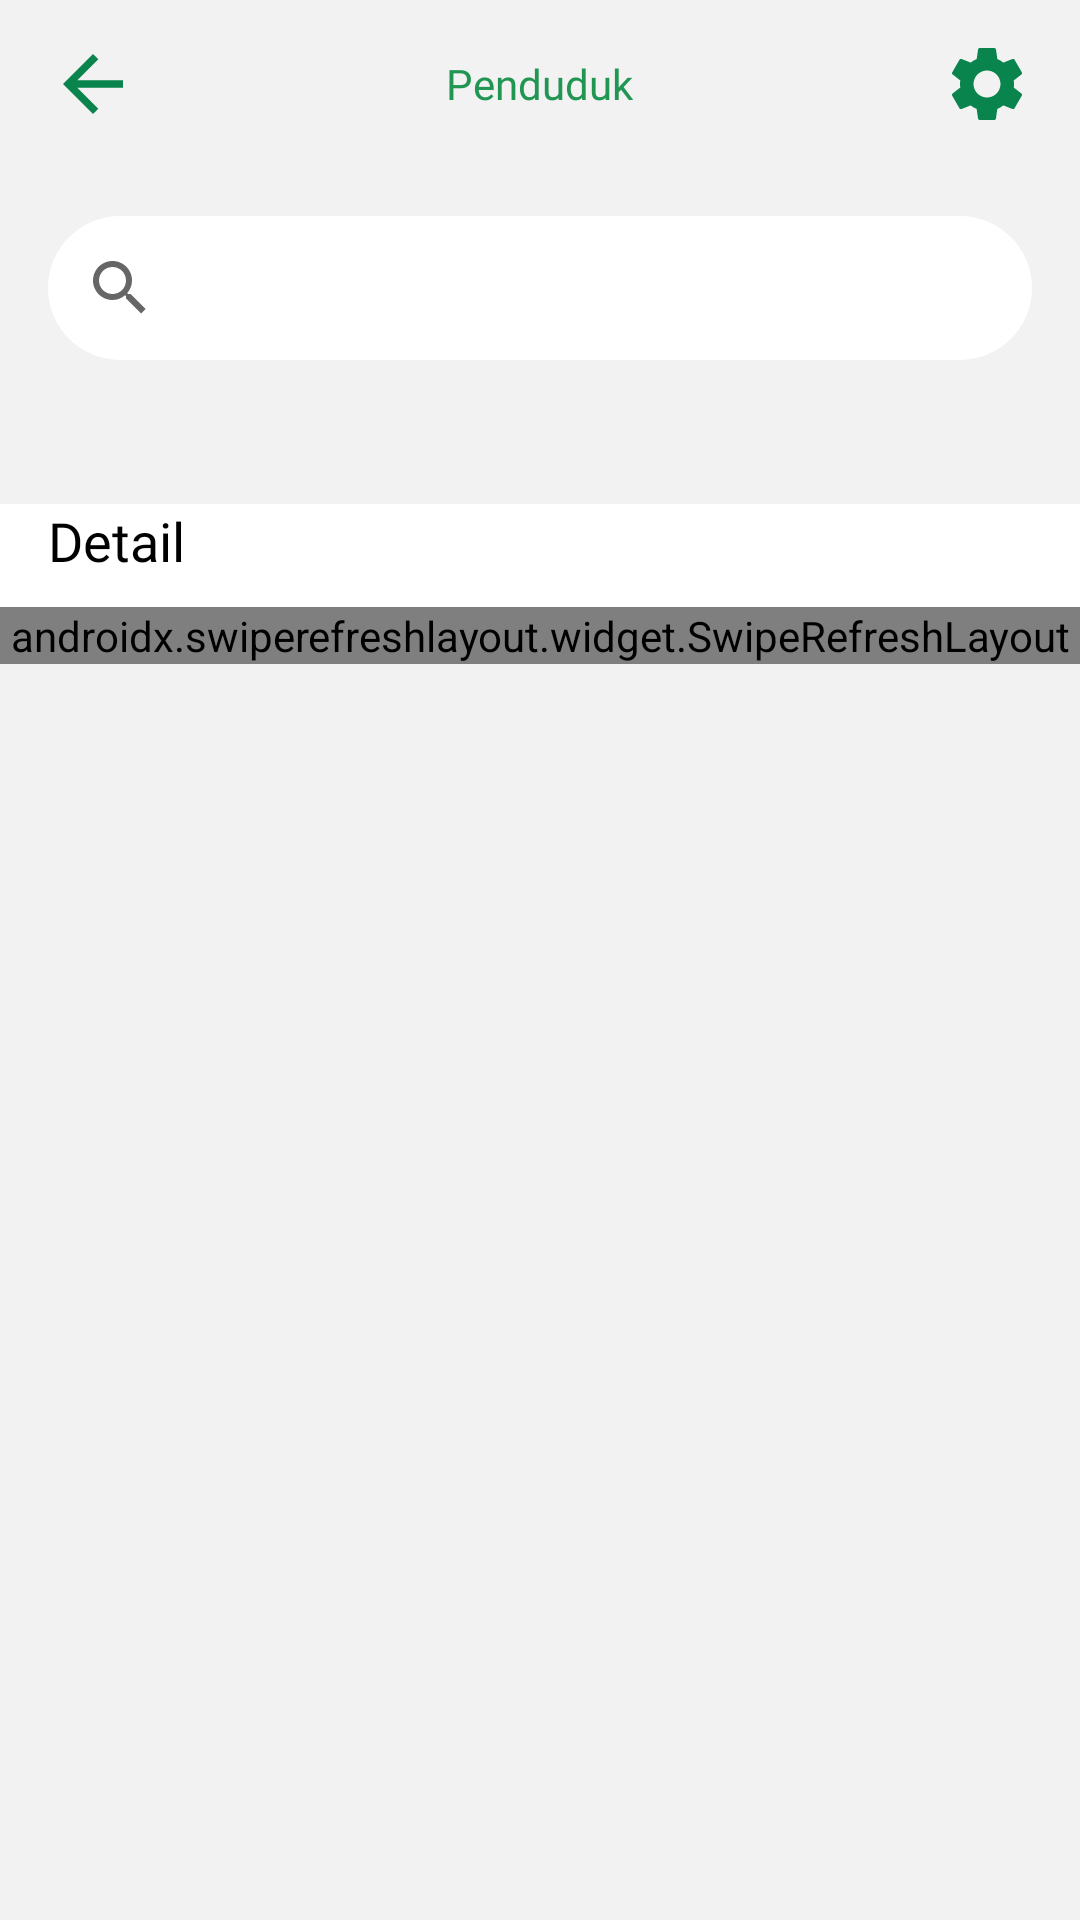

Screen size 1080×1920. Icon name, then its box in pixels as (x1, y1, x2, y2):
arrow back: (63, 54, 123, 114)
sett: (952, 48, 1022, 120)
